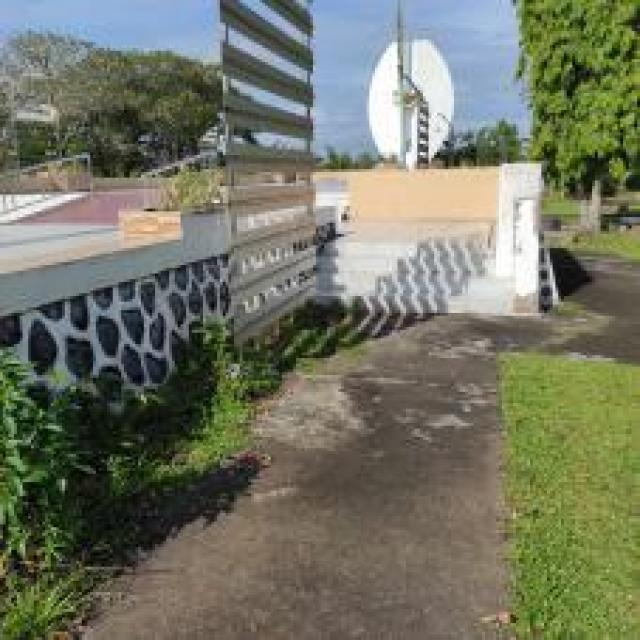upstair: (331, 227, 534, 323)
